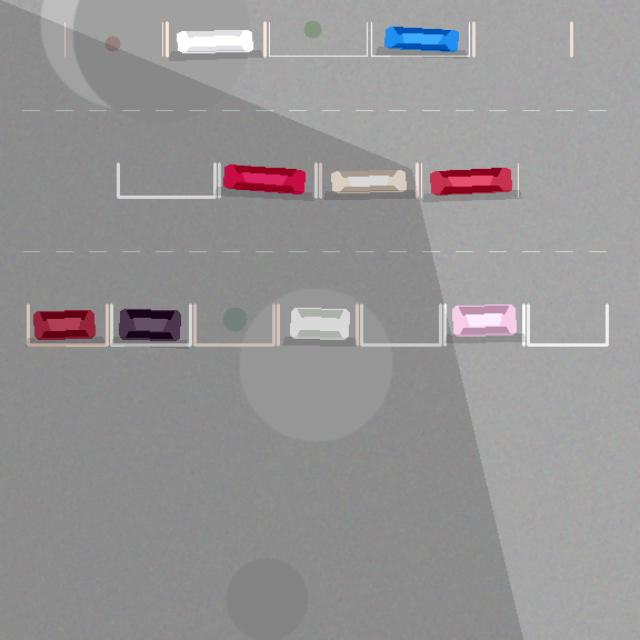space-empty: (64, 22, 162, 56), (269, 22, 367, 56), (473, 22, 571, 56), (118, 163, 214, 197), (194, 304, 273, 344), (361, 304, 440, 344), (528, 304, 607, 344)
space-occupied: (371, 22, 469, 56), (167, 22, 264, 56), (219, 163, 316, 197), (320, 163, 417, 197), (421, 163, 518, 197), (28, 304, 107, 344), (111, 304, 190, 344), (278, 304, 357, 344), (444, 304, 523, 344)
